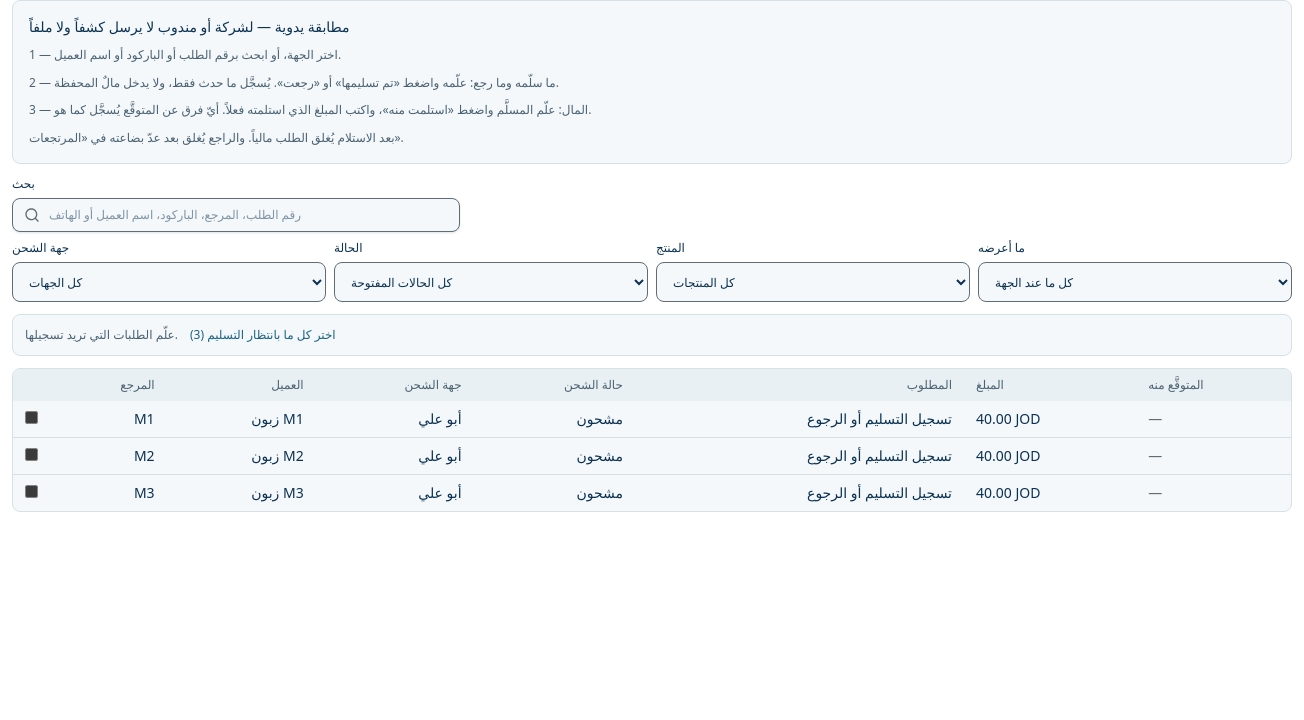
Test: what the ticked parcels ask for › parcels out for delivery offer exactly the two outcomes — with the count in the button
Expected: the dropdown labelled "جهة الشحن" is shown, [12,262,326,302]
Expected: the row "M1 زبون M1 أبو علي مشحون تسجيل التسليم أو الرجوع 40.00 JOD —" is shown, [13,401,1291,438]
Step 1. Click the checkbox named "اختر السجل" in the row of "زبون M1" → (32, 418), box [25,411,38,424]
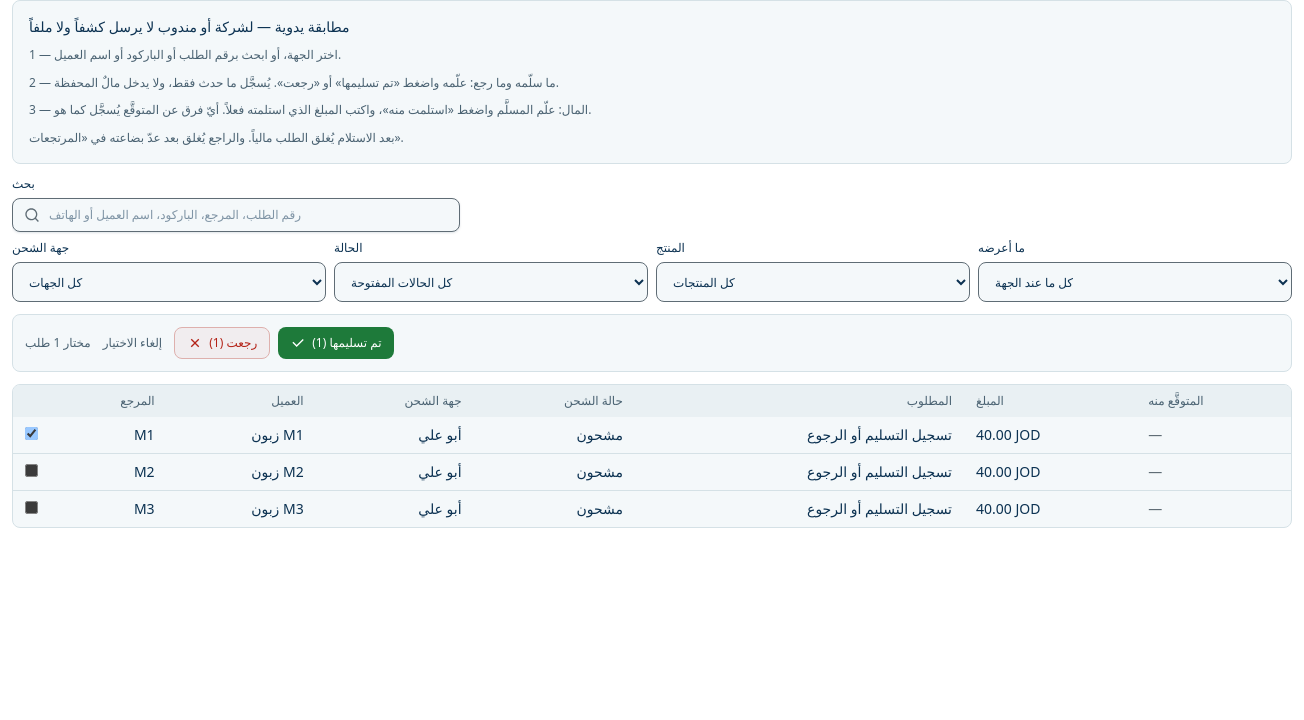
Step 2. Click the checkbox named "اختر السجل" in the row of "زبون M2" → (32, 470), box [25,464,38,477]
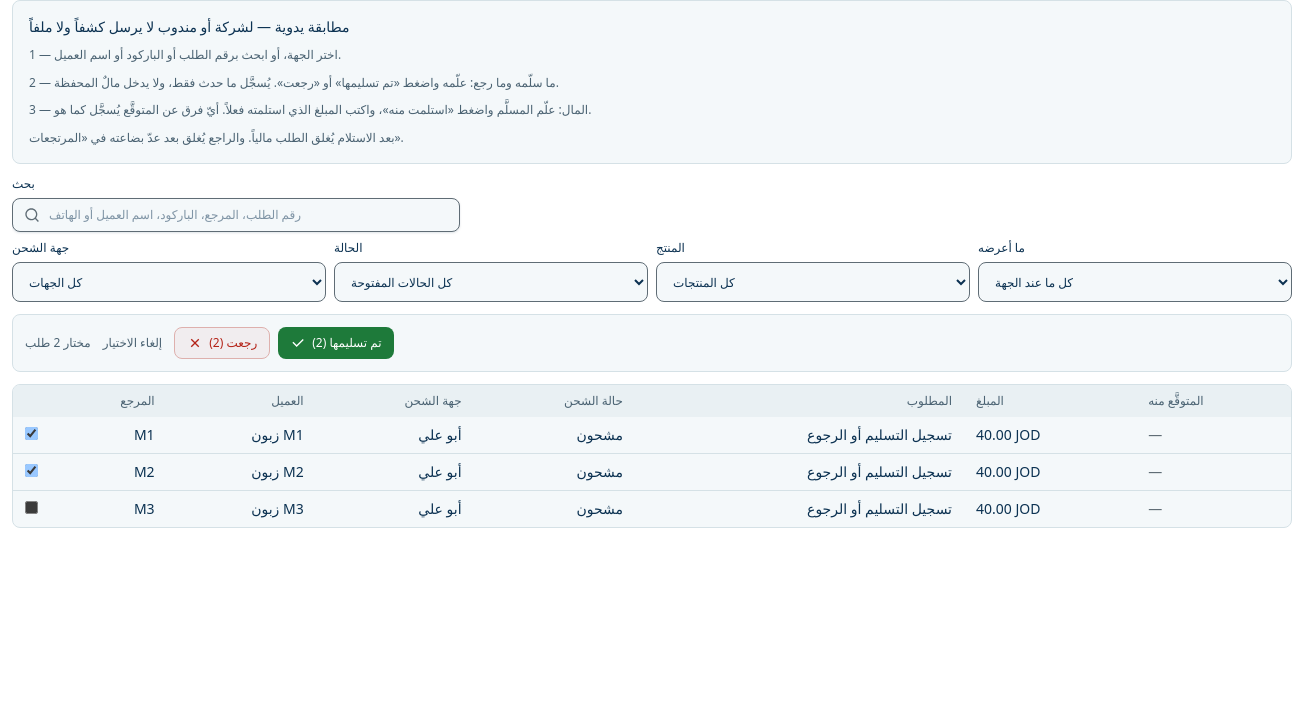
Result: the button "تم تسليمها (2)" is shown at [278,327,394,359]
Result: the button "رجعت (2)" is shown at [174,327,270,359]
